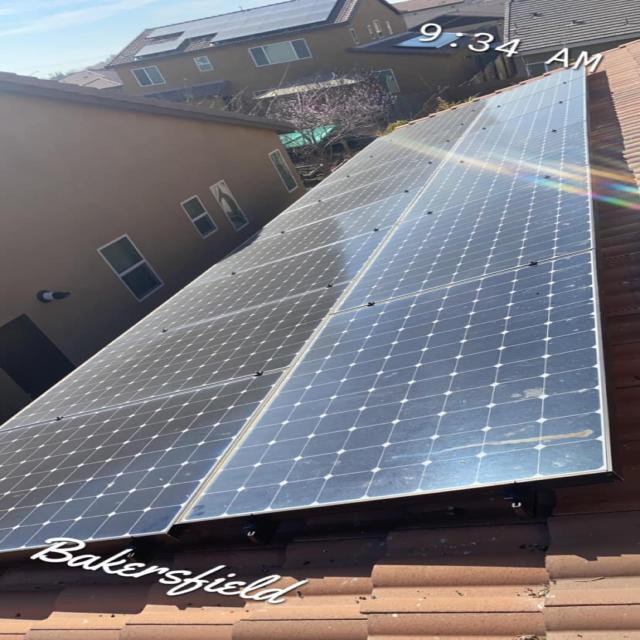Bird-drop: (414, 425, 596, 461)
